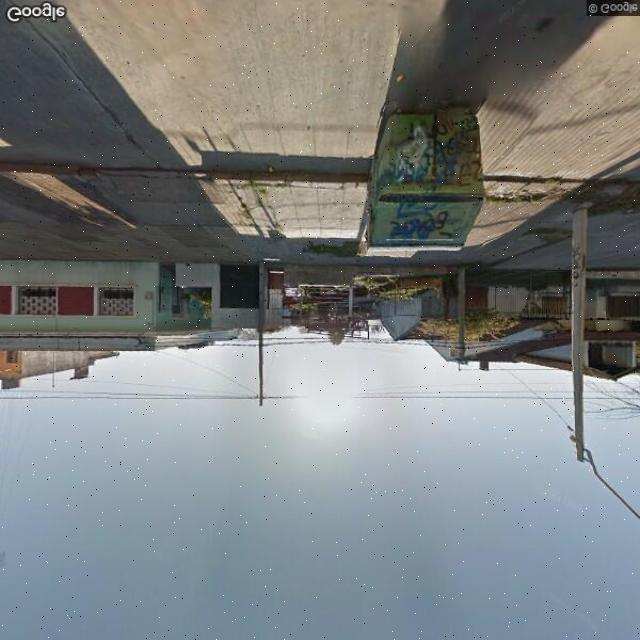garbage container: (356, 94, 493, 266)
